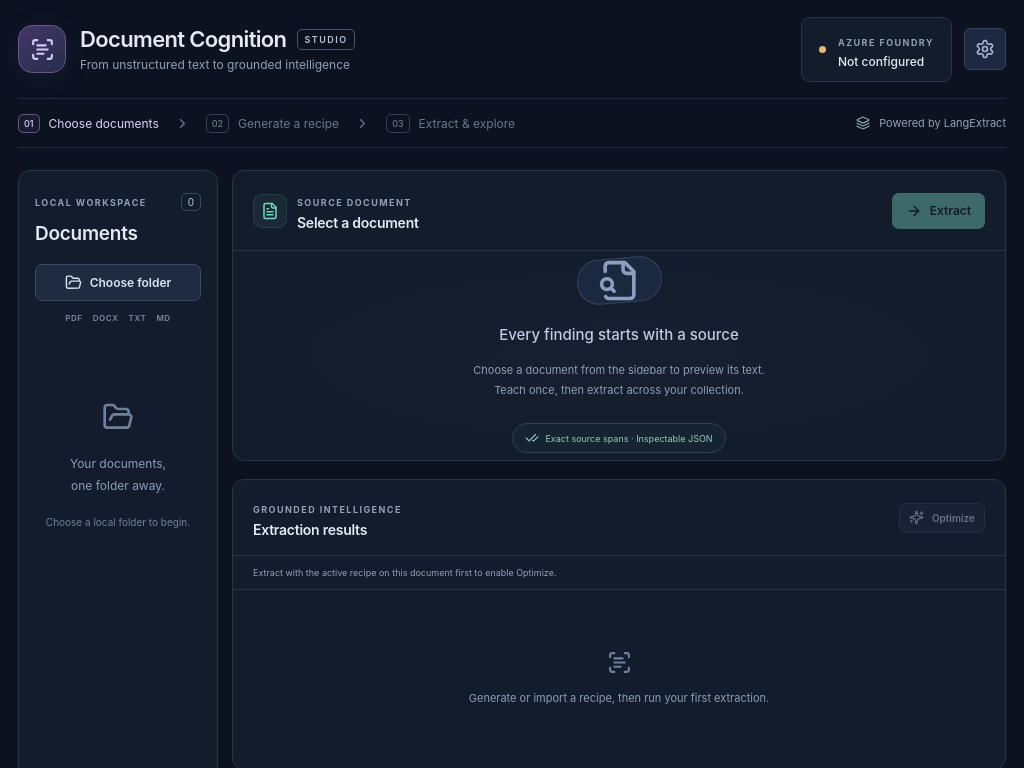
rejects invalid Target chunk size (characters) value 499 without applying it
Click the button named "Extraction settings". click: (985, 49)
box: [964, 28, 1006, 70]
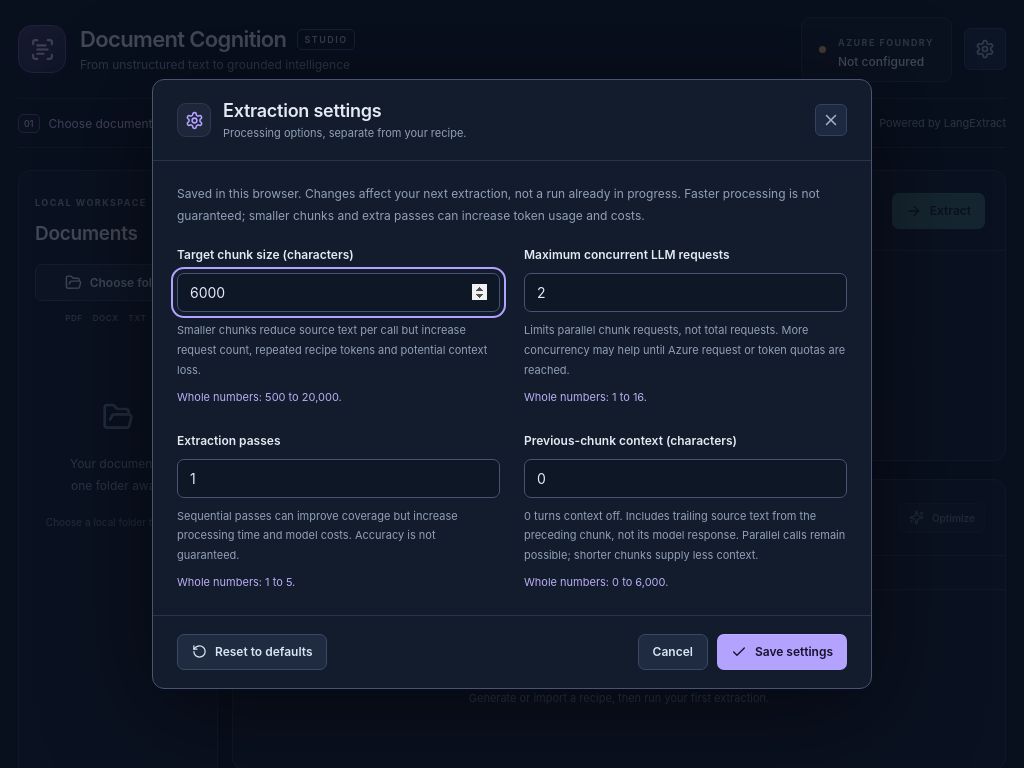
Replace the text in the number field labelled "Target chunk size (characters)" with "499". click: (338, 293)
box: [177, 273, 500, 312]
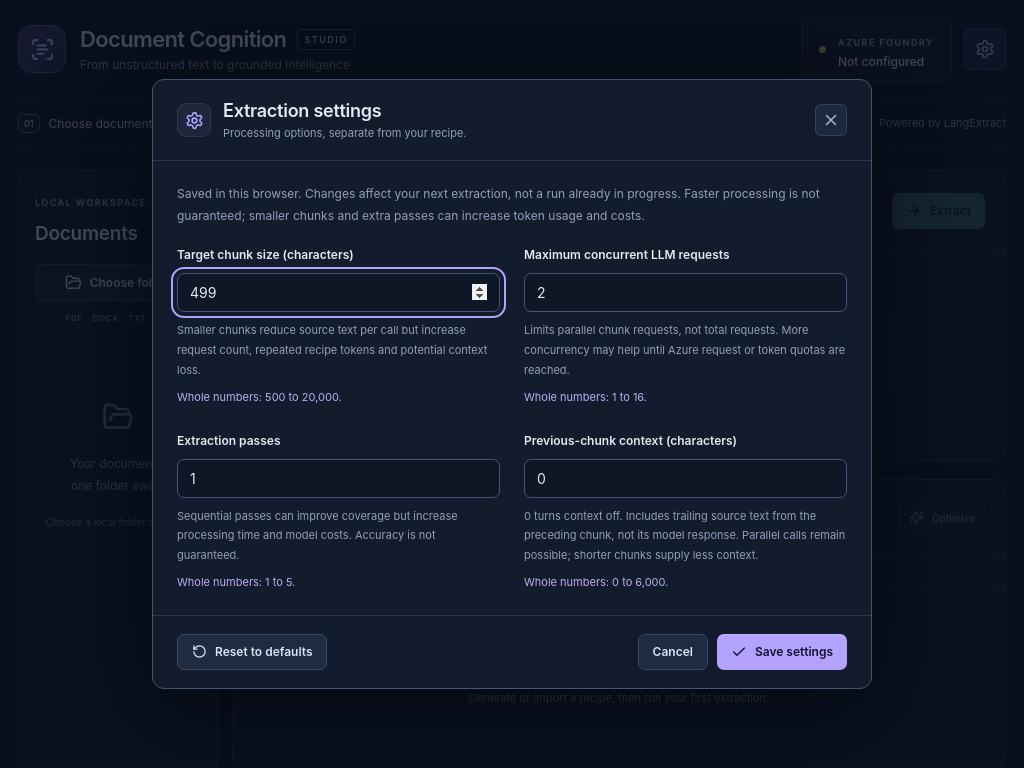
Click the button "Save settings". click: (782, 652)
box: [717, 634, 847, 670]
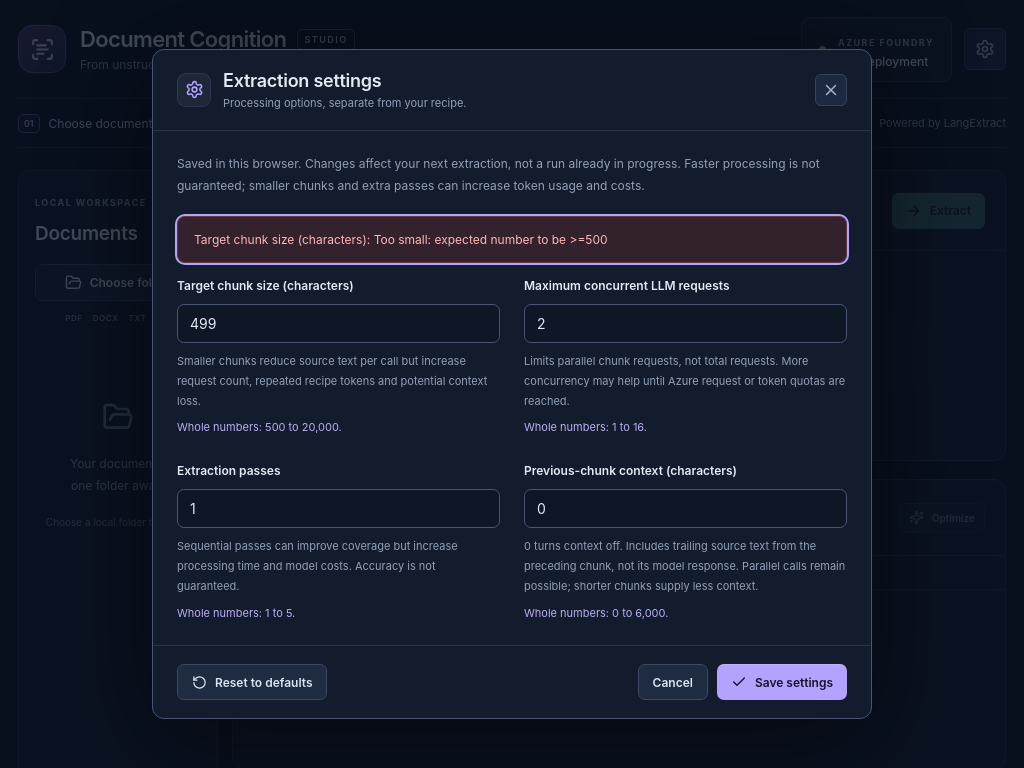
Expected: the message "Target chunk size (characters): Too small: expected number to be >=500" is not empty, [177, 216, 847, 263]
